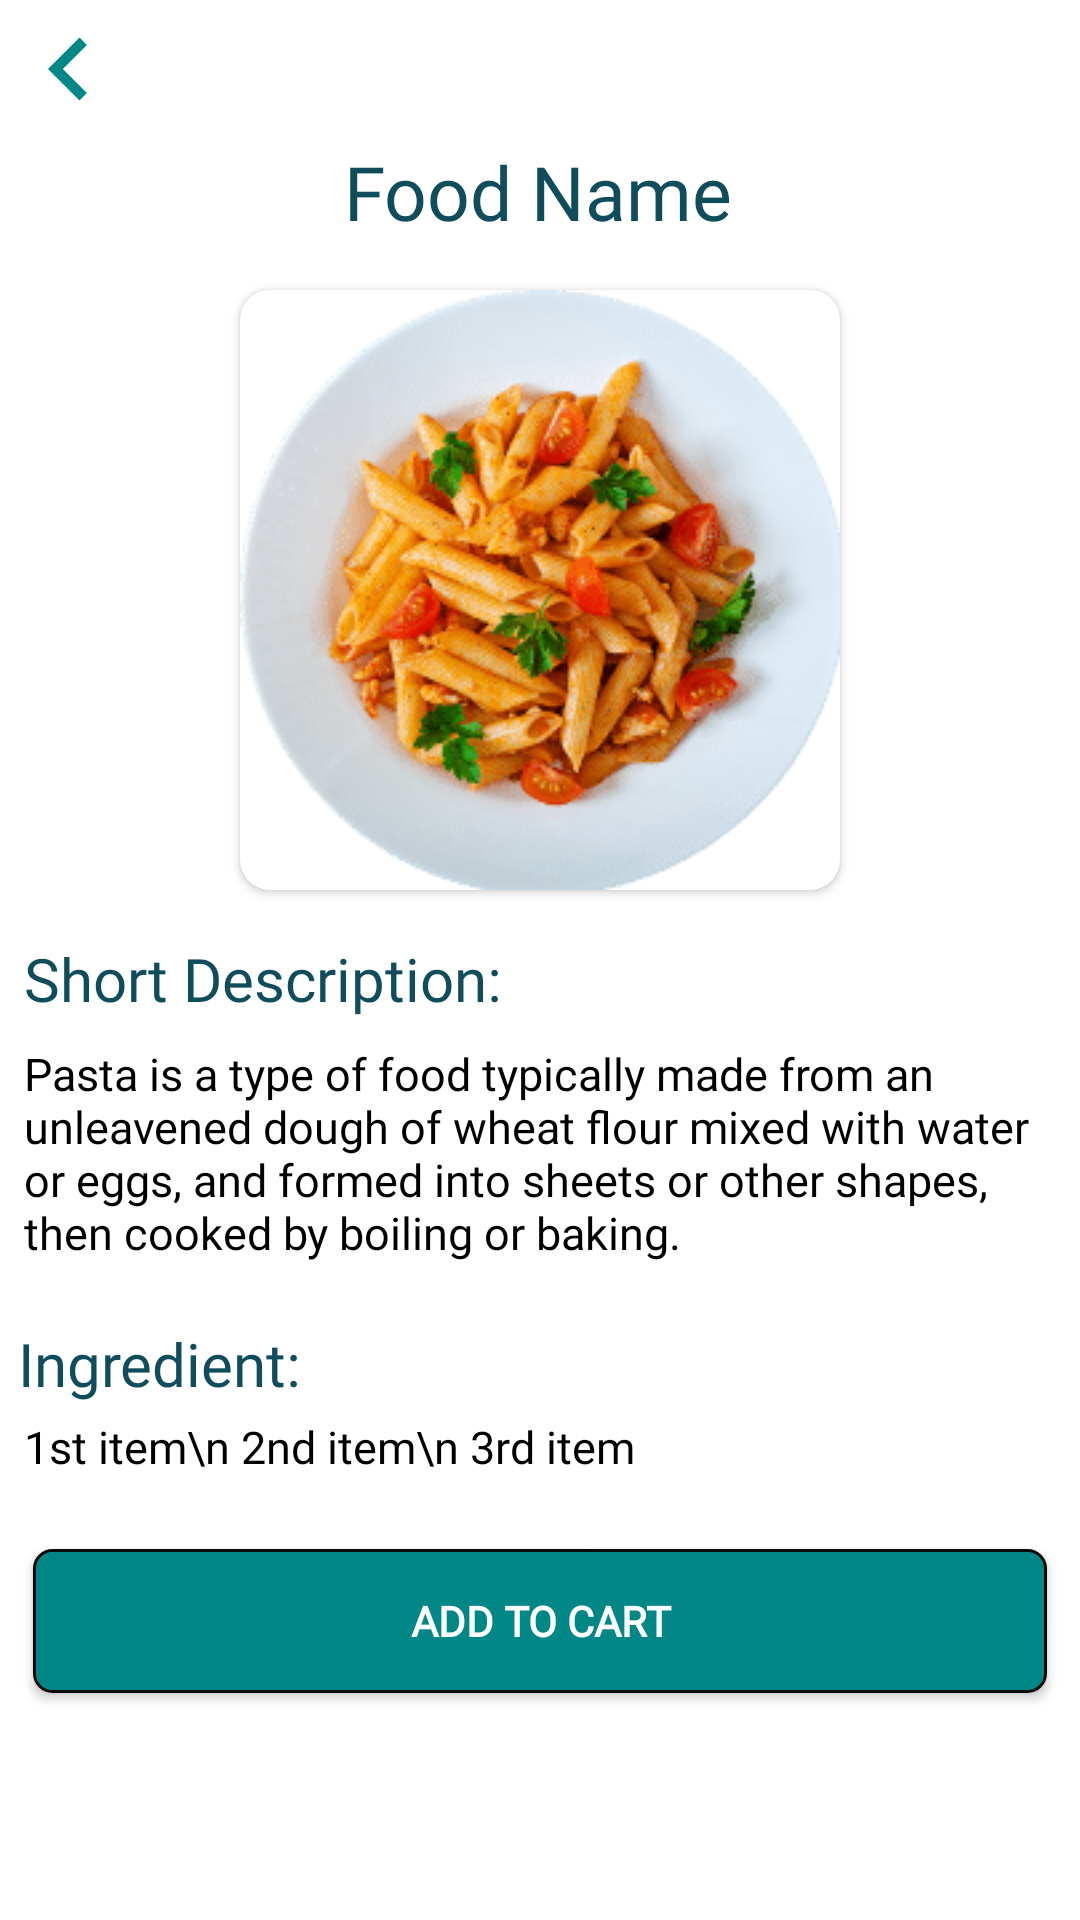

Where icons sit on this 1080x1920 app screen, as {"x1": x1, "y1": y1, "x2": x2, "y2": y2}:
keyboard arrow left: {"x1": 48, "y1": 37, "x2": 87, "y2": 101}
